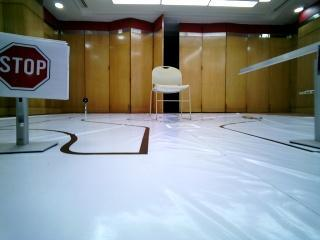stop: (3, 33, 67, 98)
